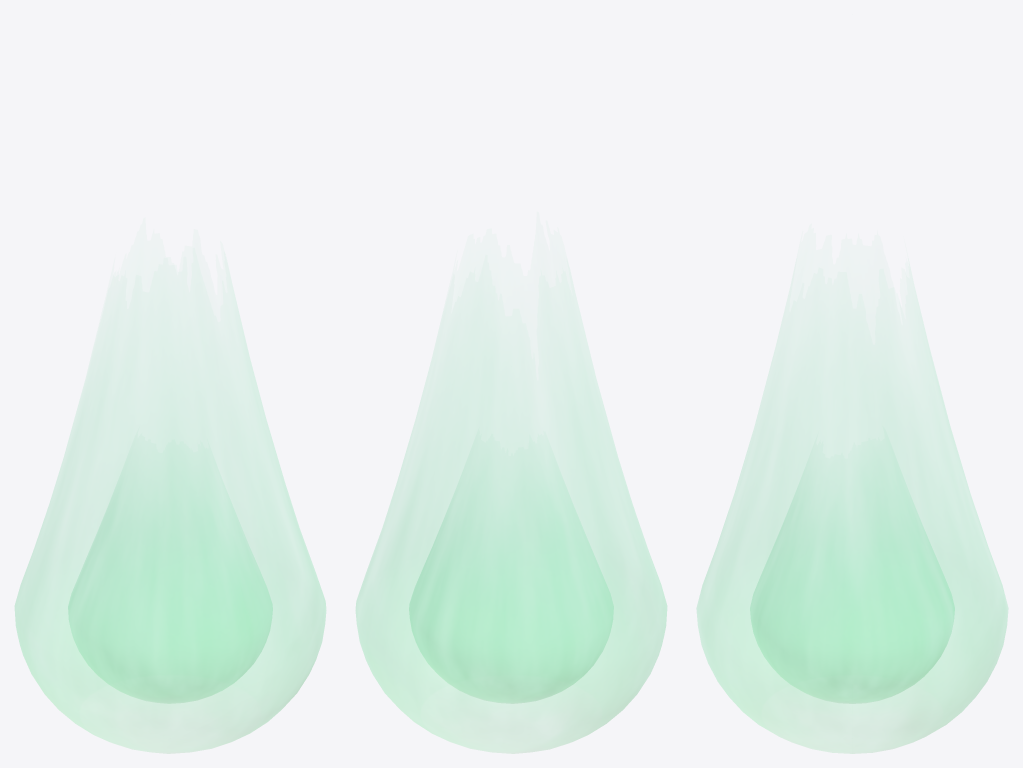
The model's file is head_emerald.glb.
3 views of the same model, side by side, from view 1: azimuth 30°, elevation 25°; view 2: azimuth 150°, elevation 25°; view 3: azimuth 270°, elevation 25° (orthographic).
Parts seen in each view (by area): view 1: head; view 2: head; view 3: head.
Boxes of the visible parts, x1=… form: head: x1=15, y1=401, x2=325, y2=753; head: x1=356, y1=404, x2=666, y2=753; head: x1=697, y1=400, x2=1007, y2=753.
Size of the model in its own units: 3.5 by 8.96 by 3.5.
2 materials, 2 textured.
